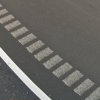crosswalk: (0, 8, 100, 100)
